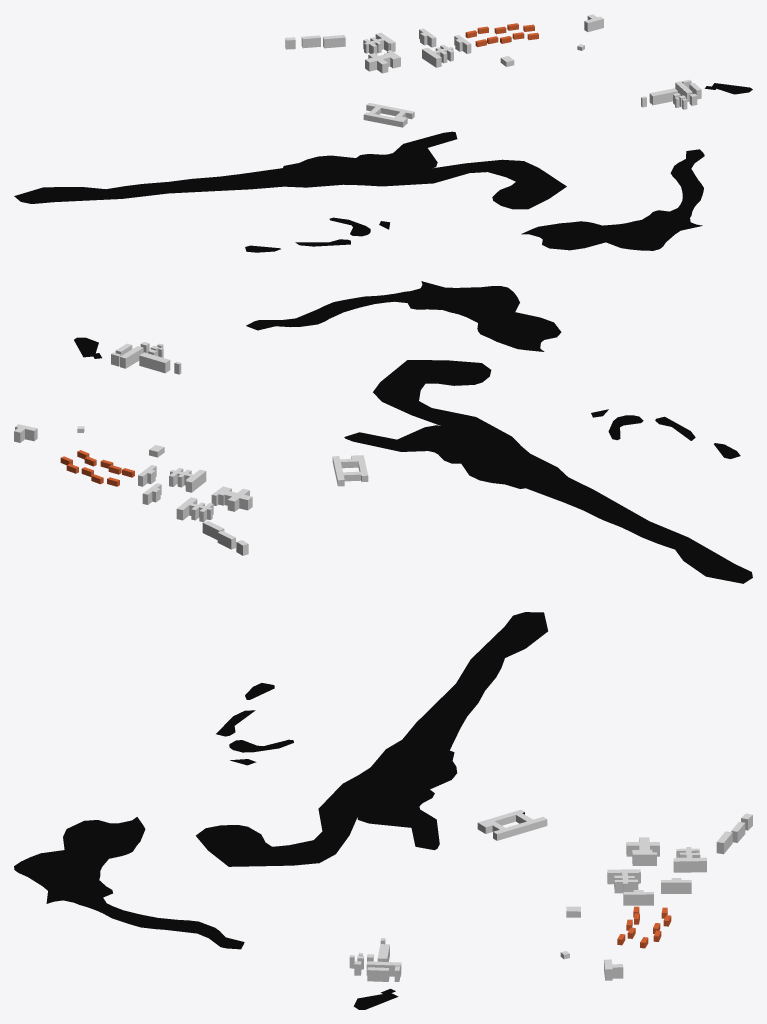
The model's file is lake-alice-geography-temp.gltf.
3 renders of one model, top to bottom at view 1: azimuth 30°, elevation 25°; view 2: azimuth 150°, elevation 25°; view 3: azimuth 270°, elevation 25°, orthographic. The views are drawn at different scales.
Visible parts, largest first — view 1: Areas, Staff Quarters, Maximum Security Block, Villas 9 - 18 Eleven Bed Adult Villas, Doctors' Houses, Villa 14 - Disturbed Patients Villa, Villa 15, Villa 13; view 2: Areas, Staff Quarters, Villas 9 - 18 Eleven Bed Adult Villas, Maximum Security Block, Villa 14 - Disturbed Patients Villa, Doctors' Houses, Villa 15, Villa 13; view 3: Areas, Staff Quarters, Maximum Security Block, Villa 14 - Disturbed Patients Villa, Villa 13, Villas 9 - 18 Eleven Bed Adult Villas, Villa 15, Doctors' Houses.
Part boxes in pixels (x1,y1,x2,y2): Areas: [14, 83, 752, 252]; Staff Quarters: [641, 79, 701, 109]; Maximum Security Block: [363, 103, 414, 127]; Villas 9 - 18 Eleven Bed Adult Villas: [465, 23, 538, 47]; Doctors' Houses: [285, 35, 345, 49]; Villa 14 - Disturbed Patients Villa: [365, 50, 400, 73]; Villa 15: [422, 45, 453, 67]; Villa 13: [363, 32, 395, 54]; Areas: [74, 281, 752, 583]; Staff Quarters: [111, 342, 181, 374]; Villas 9 - 18 Eleven Bed Adult Villas: [60, 450, 134, 486]; Maximum Security Block: [332, 455, 368, 486]; Villa 14 - Disturbed Patients Villa: [211, 486, 252, 511]; Doctors' Houses: [202, 521, 248, 555]; Villa 15: [169, 468, 206, 492]; Villa 13: [176, 497, 213, 522]; Areas: [14, 612, 547, 1009]; Staff Quarters: [349, 938, 401, 981]; Maximum Security Block: [477, 809, 547, 840]; Villa 14 - Disturbed Patients Villa: [626, 837, 659, 865]; Villa 13: [673, 847, 706, 872]; Villas 9 - 18 Eleven Bed Adult Villas: [617, 906, 671, 948]; Villa 15: [607, 869, 640, 894]; Doctors' Houses: [716, 813, 752, 854].
Bounding box in the file's own units: 1524 × 20 × 1196.
